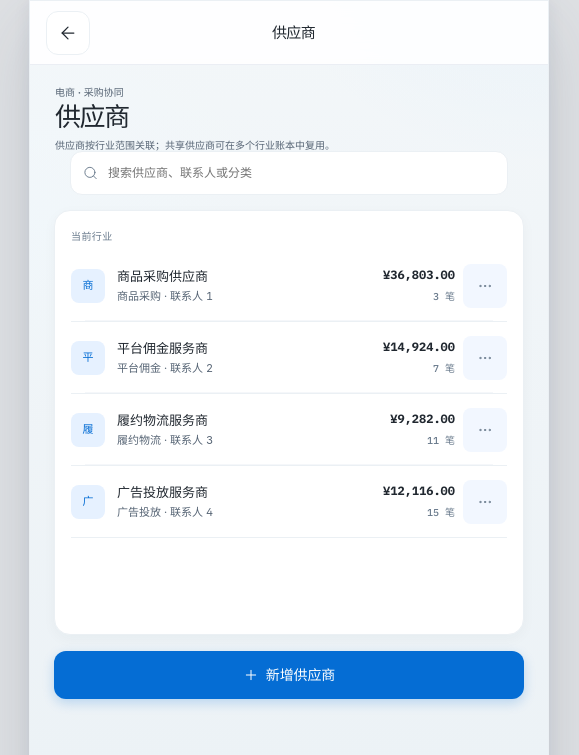
Test: C5 供应商行收敛：整行进入编辑，编辑/删除收进更多菜单 › 更多菜单收纳编辑/删除；从菜单编辑仍进入同一表单
Check: the heading "供应商" is shown, box [55, 101, 129, 132]
Click the 1st button named "更多操作". click: (485, 286)
box: [463, 264, 507, 308]
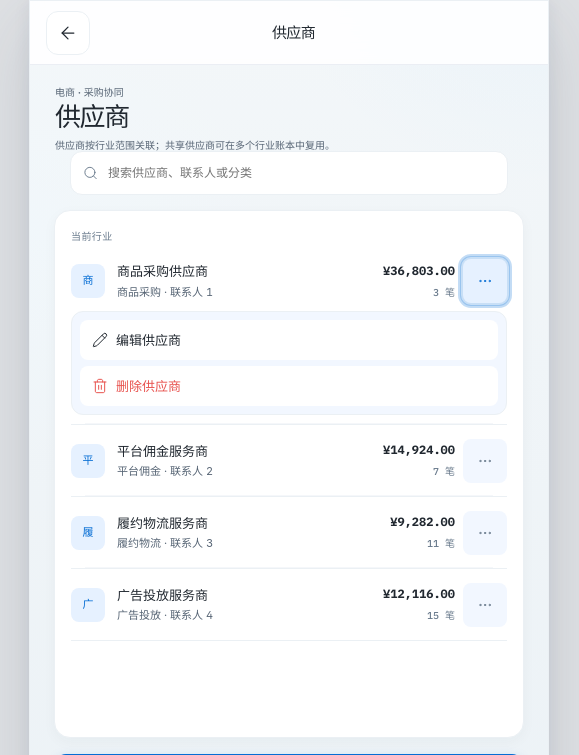
Check: the button "编辑供应商" is shown
Check: the button "删除供应商" is shown, box [80, 366, 498, 406]
Click the button "编辑供应商". click: (149, 340)
box: [80, 320, 498, 360]
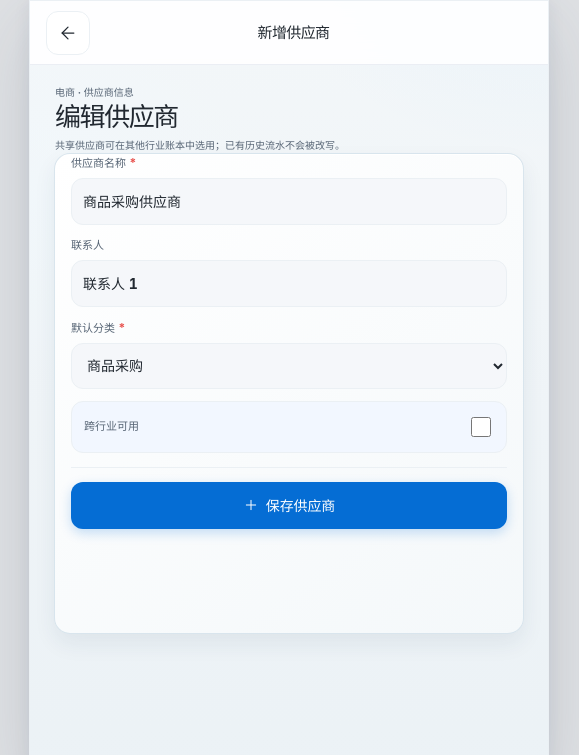
Check: the heading "编辑供应商" is shown, box [55, 101, 178, 132]
